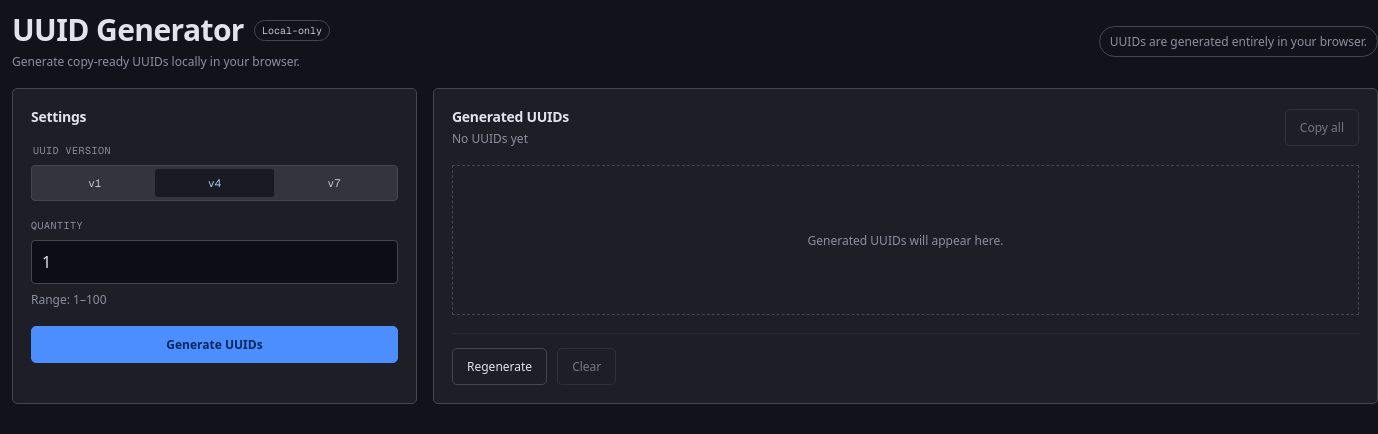
Test: UUID Generator - Level 3 advanced/risk-driven › shows an actionable error when clipboard writing is rejected (browser permission risk)
Click the button "Generate UUIDs": coordinates (214, 344) left=31, top=326, right=398, bottom=363
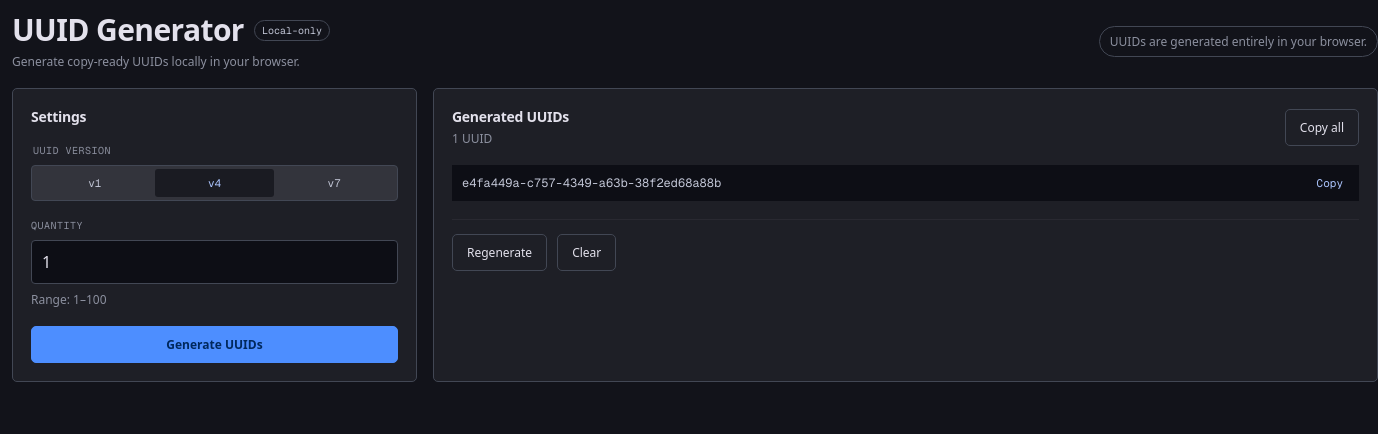
Click the button "Copy all": coordinates (1322, 127) left=1285, top=108, right=1359, bottom=146
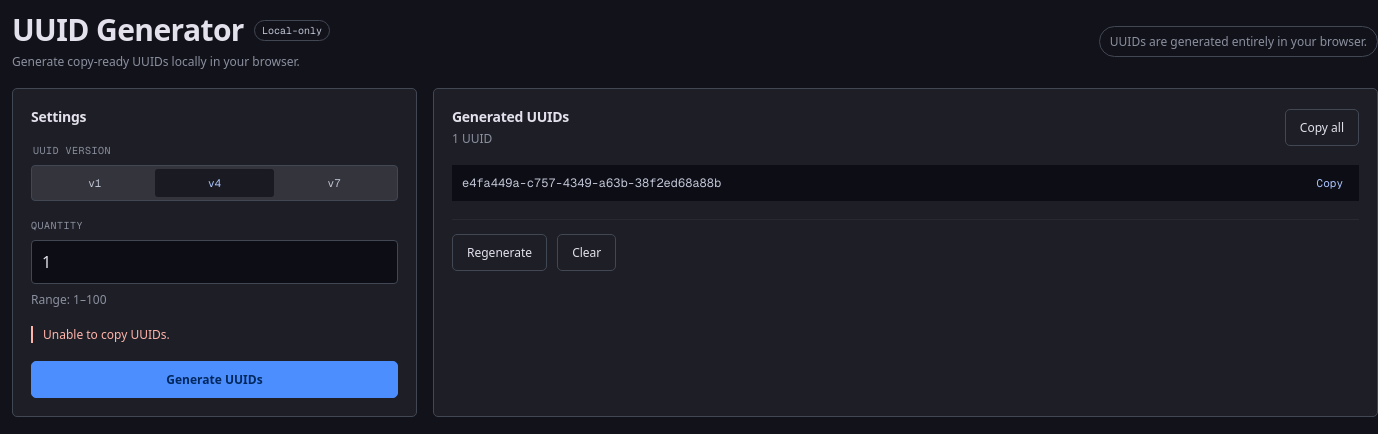
Result: the message reads "Unable to copy UUIDs." at left=43, top=326, right=170, bottom=343
